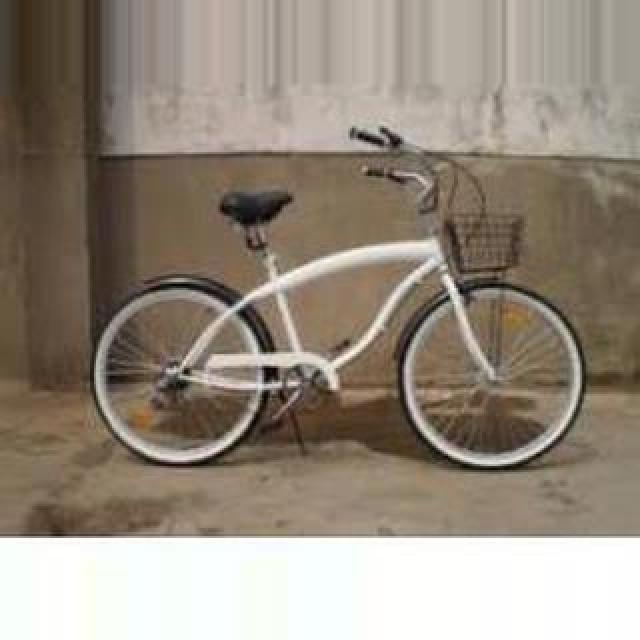Person: (89, 118, 587, 474)
